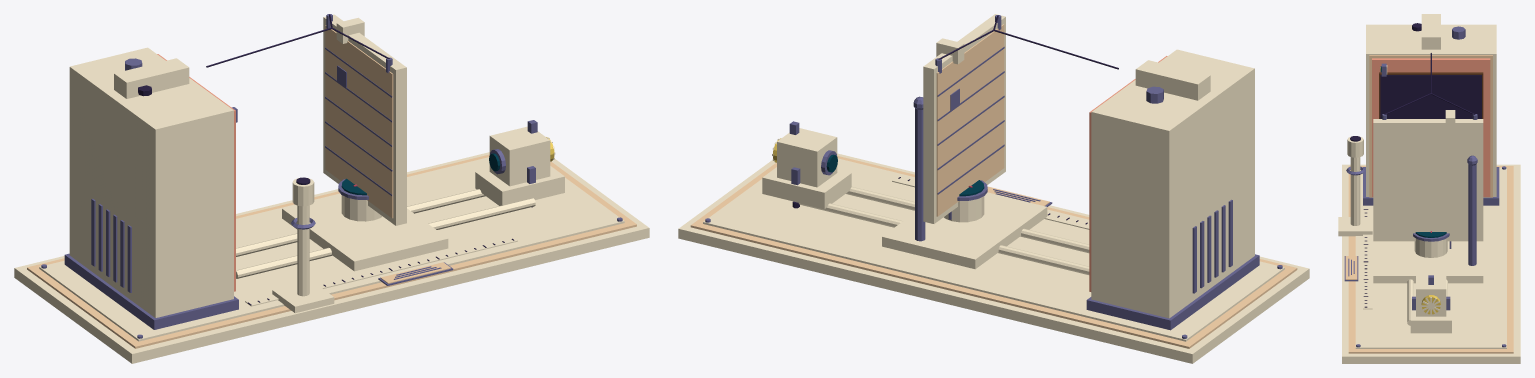
File: rayonnement.glb
3 renders of one model, left to right at view 1: azimuth 30°, elevation 25°; view 2: azimuth 150°, elevation 25°; view 3: azimuth 270°, elevation 25°, orthographic. The views are drawn at different scales.
Parts seen in each view (by area): view 1: rayonnement_cream, anim_slide_recepteur, rayonnement_steel, rayonnement_peach, rayonnement_dark; view 2: rayonnement_cream, anim_slide_recepteur, rayonnement_peach, rayonnement_steel, rayonnement_salmon; view 3: rayonnement_cream, anim_slide_recepteur, rayonnement_peach, rayonnement_dark, rayonnement_salmon, rayonnement_steel, anim_pulse_plaque, anim_spin_x_molette.
Part boxes in pixels (x1,y1,x2,y2): rayonnement_cream: [14, 47, 649, 363]; anim_slide_recepteur: [282, 14, 448, 271]; rayonnement_steel: [41, 58, 622, 338]; rayonnement_peach: [27, 154, 636, 348]; rayonnement_dark: [138, 27, 532, 305]; rayonnement_cream: [678, 49, 1309, 363]; anim_slide_recepteur: [882, 14, 1047, 269]; rayonnement_peach: [690, 156, 1297, 348]; rayonnement_steel: [705, 86, 1282, 338]; rayonnement_salmon: [1089, 56, 1167, 291]; rayonnement_cream: [1338, 14, 1520, 363]; anim_slide_recepteur: [1373, 93, 1483, 283]; rayonnement_peach: [1345, 55, 1513, 353]; rayonnement_dark: [1350, 23, 1481, 307]; rayonnement_salmon: [1372, 58, 1490, 196]; rayonnement_steel: [1344, 26, 1506, 347]; anim_pulse_plaque: [1379, 72, 1483, 118]; anim_spin_x_molette: [1421, 295, 1440, 314].
Bounding box in the file's own units: 3.3 × 1.41 × 1.32.
